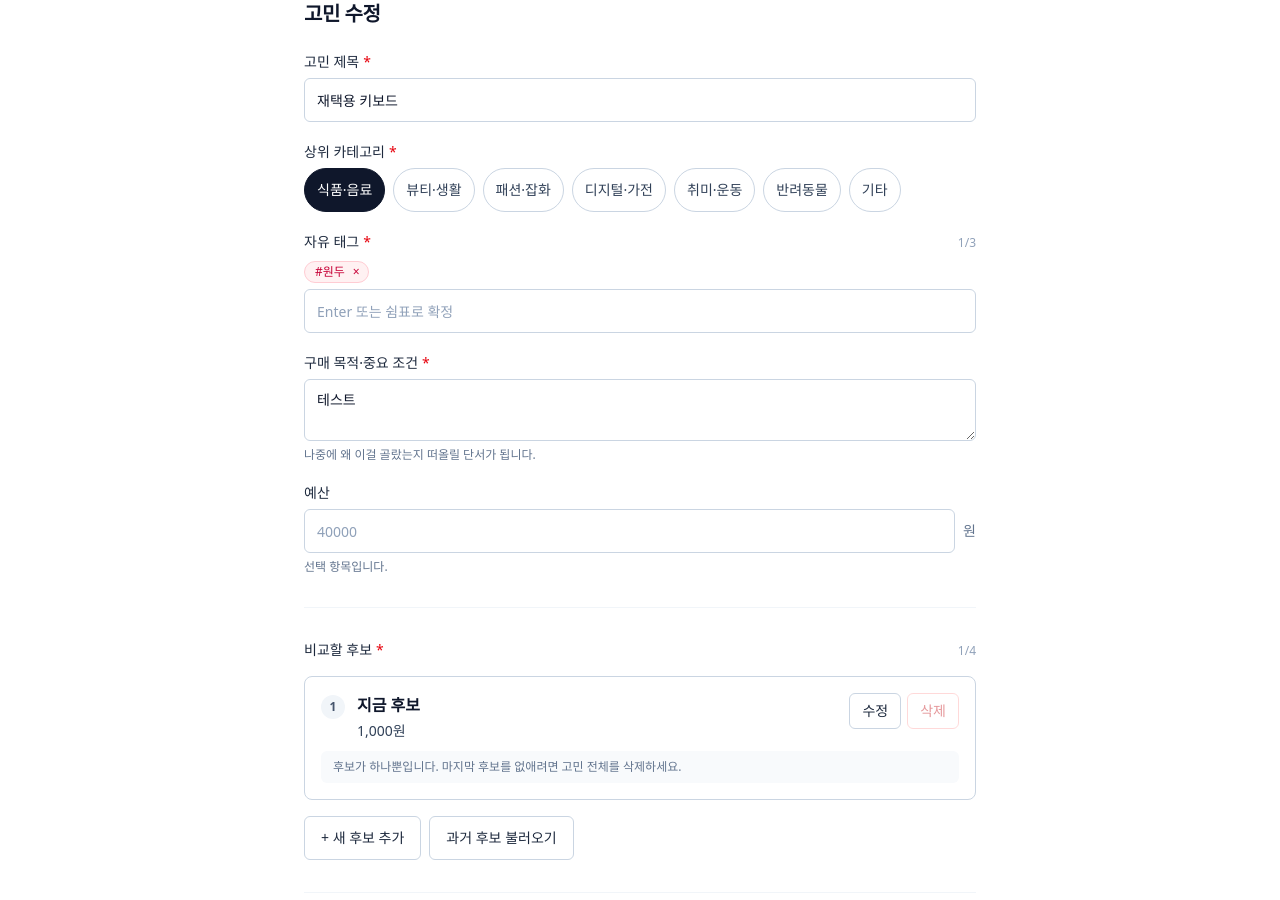
Test: 블록 48 — 불러오기 목록 › 검색으로 좁힌다
This screenshot has width=1280, height=900.
Click the button "과거 후보 불러오기" at (501, 838), box [429, 816, 574, 860]
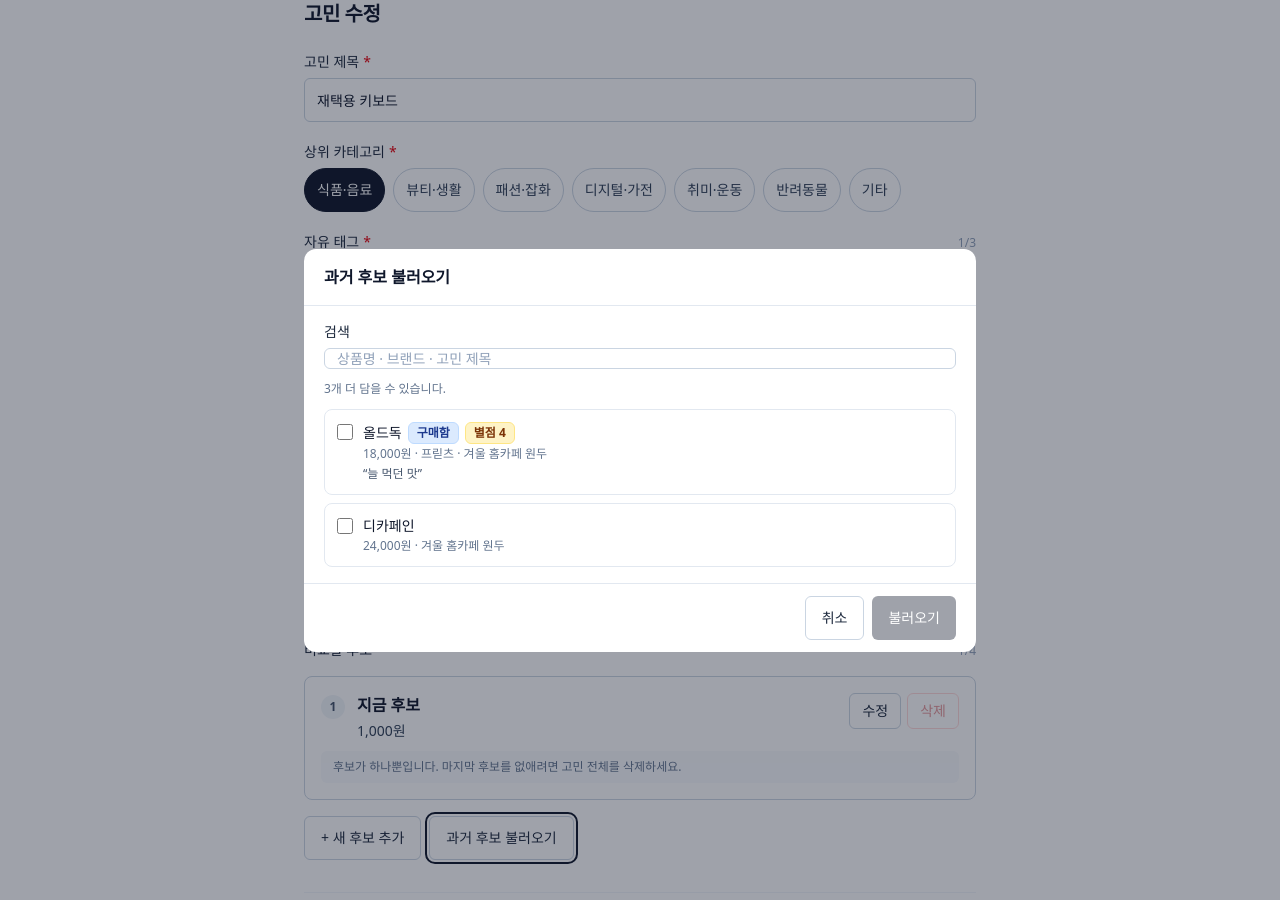
Type "프릳츠" into the search field labelled "검색" at (640, 358), box [324, 348, 956, 368]
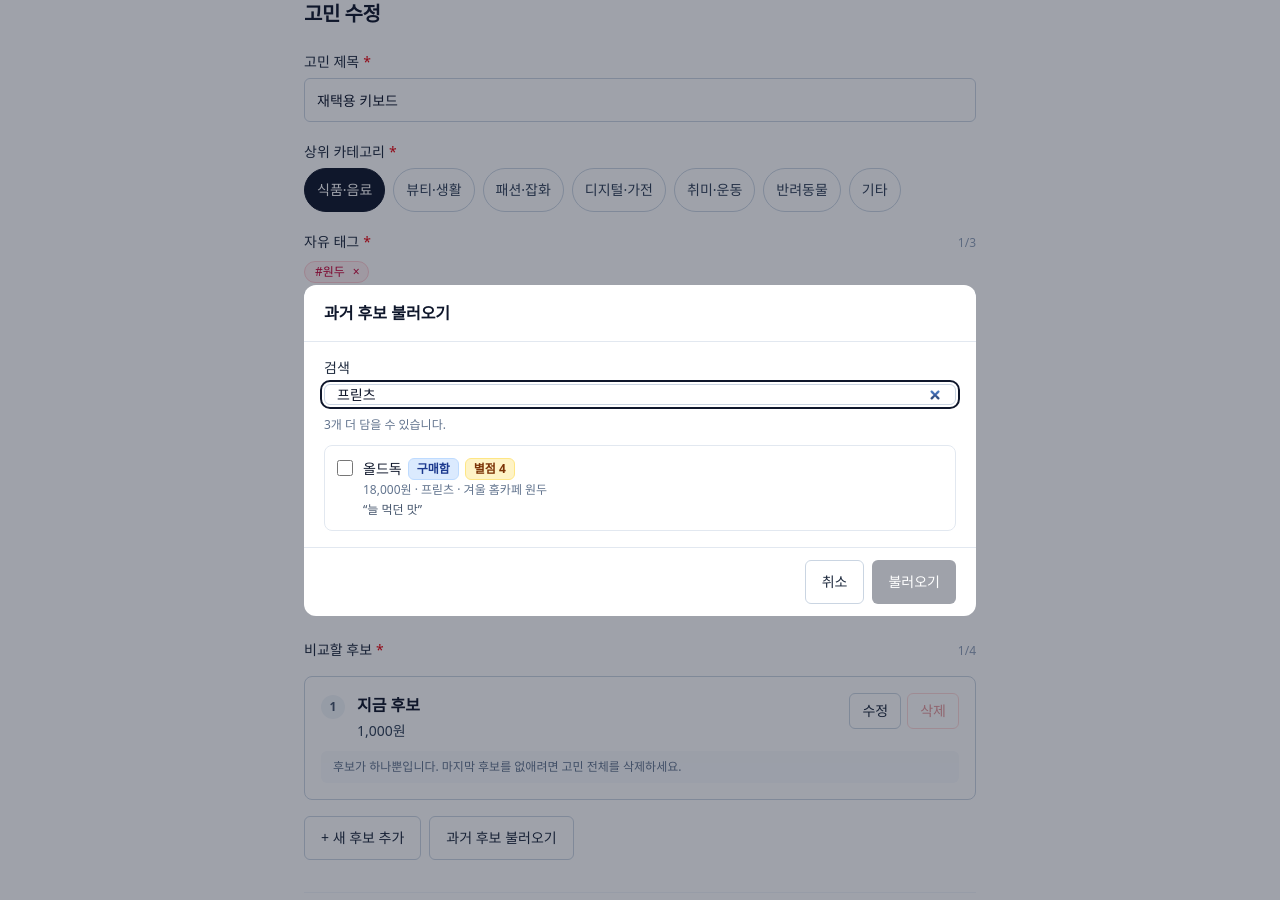
Expected: the text "올드독" is shown, [363, 458, 402, 478]
Expected: the text "디카페인" is gone
